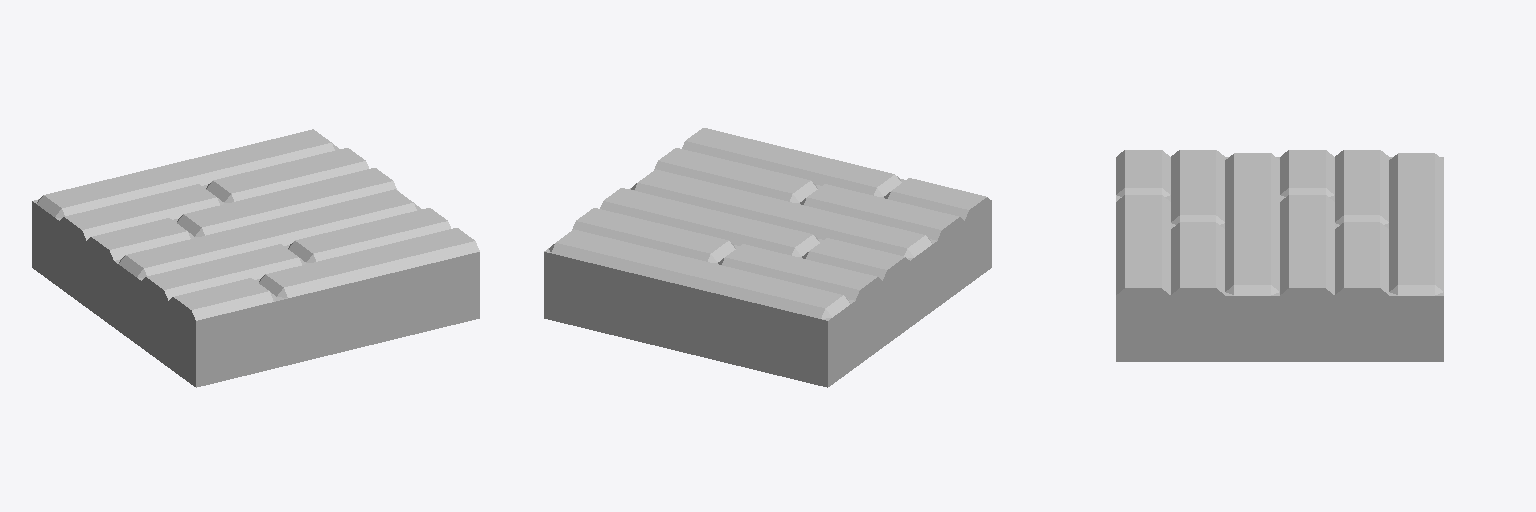
The model's file is floor_wood.obj.
3 renders of one model, left to right at view 1: azimuth 30°, elevation 25°; view 2: azimuth 150°, elevation 25°; view 3: azimuth 270°, elevation 25°, orthographic.
Parts seen in each view (by area): view 1: floor_wood; view 2: floor_wood; view 3: floor_wood.
Boxes of the visible parts, <box> form: floor_wood: <box>32,129,479,387</box>; floor_wood: <box>544,128,991,387</box>; floor_wood: <box>1116,150,1443,361</box>.
Bounding box in the file's own units: 2 × 0.5 × 2.